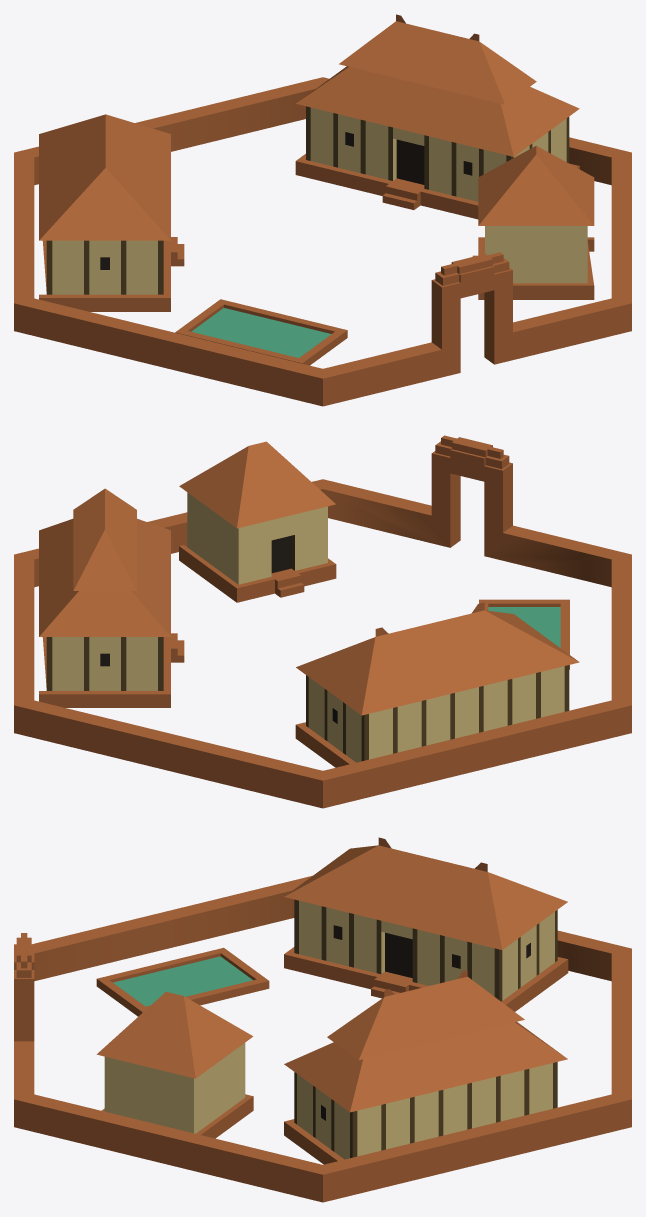
Rendered from MJ_Building_House_T3.fbx.
The picture shows the model from 3 angles, top to bottom: view 1: azimuth 30°, elevation 25°; view 2: azimuth 150°, elevation 25°; view 3: azimuth 270°, elevation 25°; orthographic projection.
Parts seen in each view (by area): view 1: Model, Group1, Group4, Group3, Group2; view 2: Model, Group4, Group1, Group3, Group2; view 3: Model, Group4, Group1, Group3, Group2.
Boxes of the visible parts, x1=… form: Model: x1=14, y1=77, x2=631, y2=406; Group1: x1=295, y1=66, x2=579, y2=219; Group4: x1=39, y1=114, x2=184, y2=311; Group3: x1=472, y1=145, x2=594, y2=299; Group2: x1=339, y1=14, x2=536, y2=104; Model: x1=14, y1=435, x2=631, y2=808; Group4: x1=295, y1=602, x2=579, y2=767; Group1: x1=39, y1=518, x2=184, y2=707; Group3: x1=179, y1=441, x2=336, y2=602; Group2: x1=73, y1=488, x2=136, y2=590; Model: x1=14, y1=876, x2=631, y2=1202; Group4: x1=284, y1=837, x2=568, y2=1011; Group1: x1=284, y1=1022, x2=567, y2=1164; Group3: x1=96, y1=992, x2=253, y2=1138; Group2: x1=327, y1=970, x2=524, y2=1060.
Bounding box in the file's own units: 5.82 × 1.38 × 5.04.
